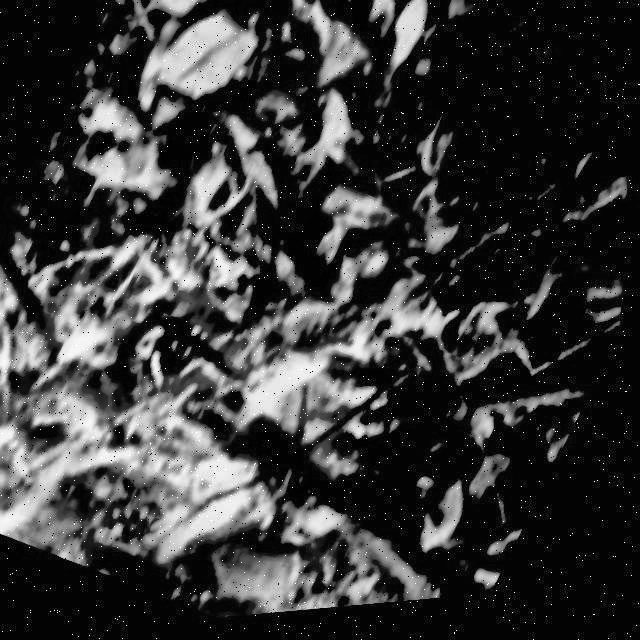Fire: (0, 210, 386, 630)
